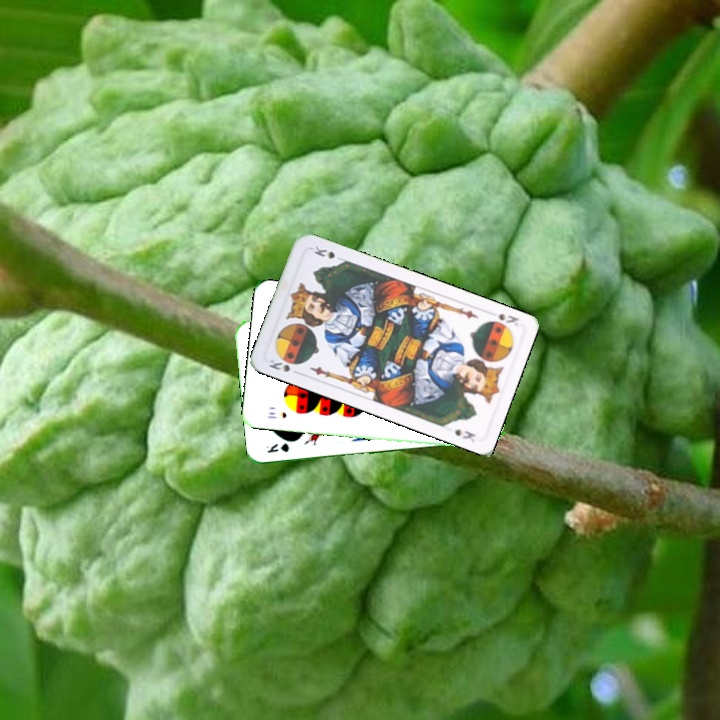GK: (262, 440, 292, 455)
S10: (264, 408, 289, 421)
SK: (484, 309, 522, 332), (265, 355, 293, 375)
